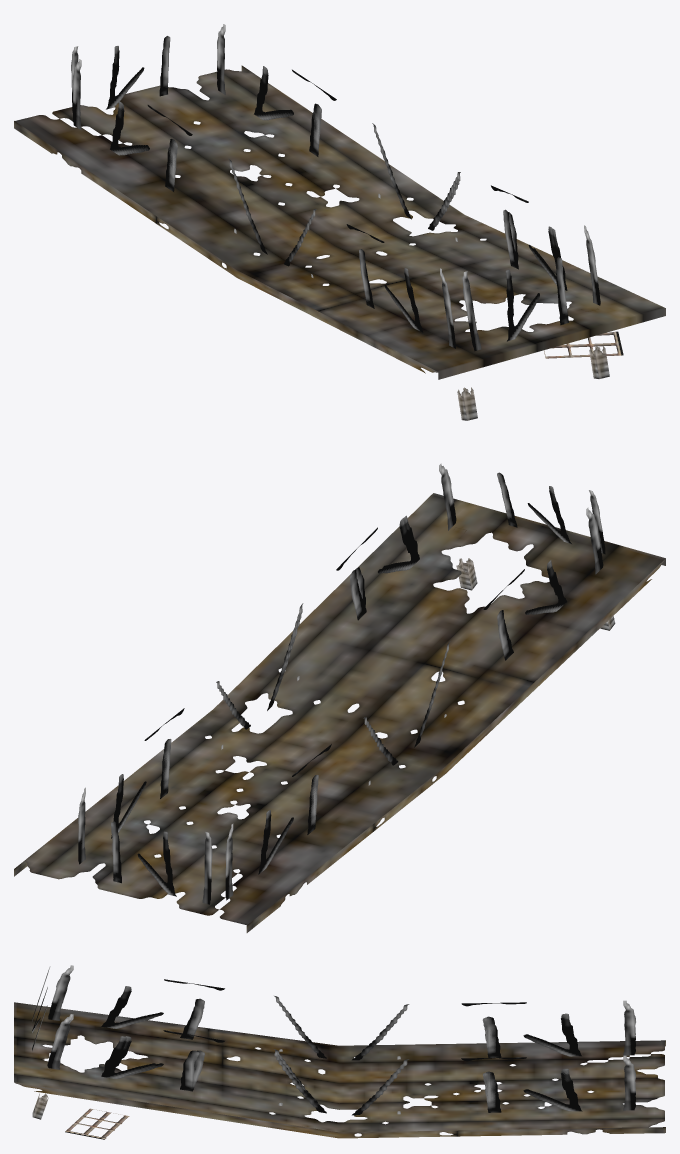
The model's file is s_barracks2_dam.glb.
3 renders of one model, top to bottom at view 1: azimuth 30°, elevation 25°; view 2: azimuth 150°, elevation 25°; view 3: azimuth 270°, elevation 25°, orthographic. The views are drawn at different scales.
Visible parts, largest first — view 1: Object01; view 2: Object01; view 3: Object01.
Boxes of the visible parts, box(x1,y1,x2,y2) form: Object01: box(14, 24, 665, 420); Object01: box(14, 463, 665, 932); Object01: box(14, 965, 665, 1139).
Size of the model in its own units: 8.01 by 4.63 by 23.65.
Materials: 3 (3 with a texture image).
